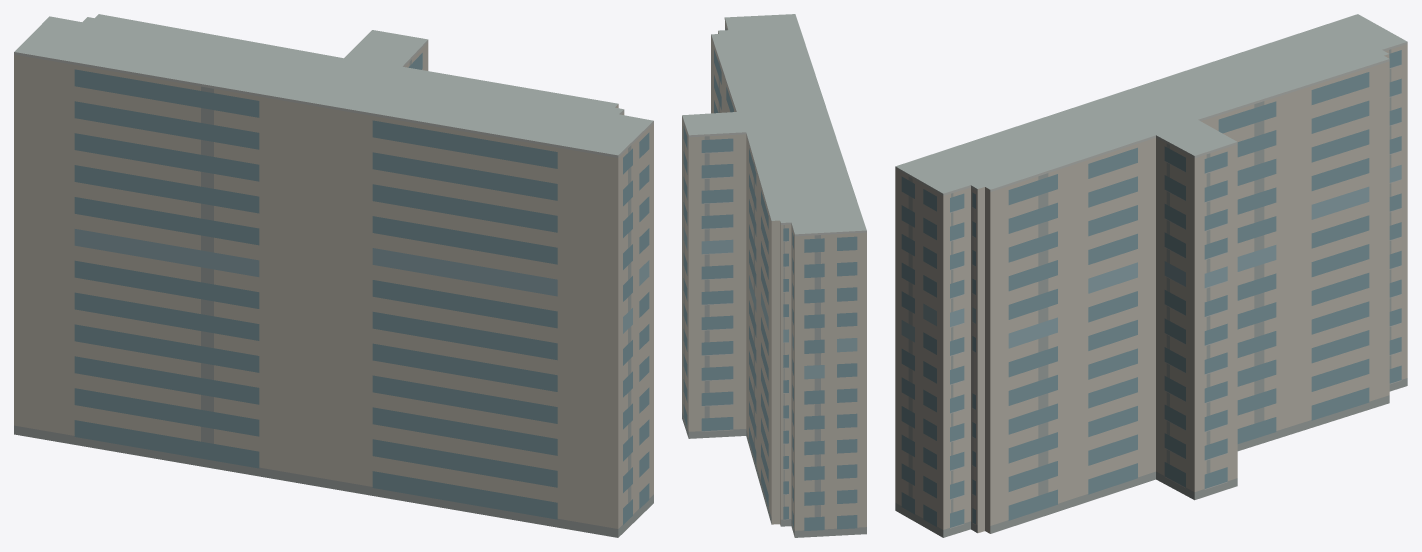
File: residential-0bc7c451-e0be-41e7-bd6f-9435977d3c90.glb
3 renders of one model, left to right at view 1: azimuth 30°, elevation 25°; view 2: azimuth 150°, elevation 25°; view 3: azimuth 270°, elevation 25°, orthographic. The views are drawn at different scales.
Visible parts, largest first — view 1: residential-0bc7c451-e0be-41e7-bd6f-9435977d3c90.tmp; view 2: residential-0bc7c451-e0be-41e7-bd6f-9435977d3c90.tmp; view 3: residential-0bc7c451-e0be-41e7-bd6f-9435977d3c90.tmp.
Part boxes in pixels (left/top/right/bottom): residential-0bc7c451-e0be-41e7-bd6f-9435977d3c90.tmp: left=14, top=14, right=653, bottom=537; residential-0bc7c451-e0be-41e7-bd6f-9435977d3c90.tmp: left=682, top=14, right=866, bottom=537; residential-0bc7c451-e0be-41e7-bd6f-9435977d3c90.tmp: left=895, top=14, right=1407, bottom=537.
Size of the model in its own units: 40.32 by 36 by 48.57.
